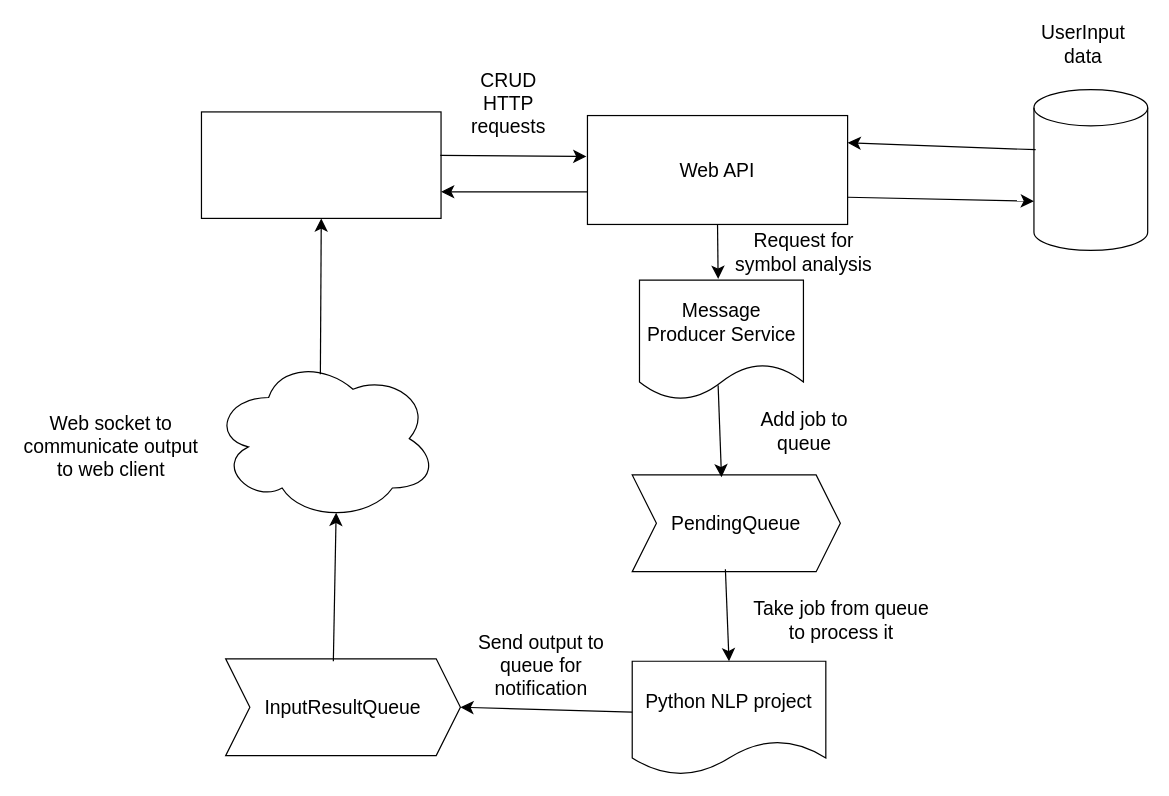
Some shapes in this 1169 by 796 pixel diagram are drawn without their labels. Each missing label, with the box of its shape:
Database: (1033, 88, 1148, 250)
Message Hub: (211, 355, 437, 521)
Web Client: (200, 111, 441, 218)
